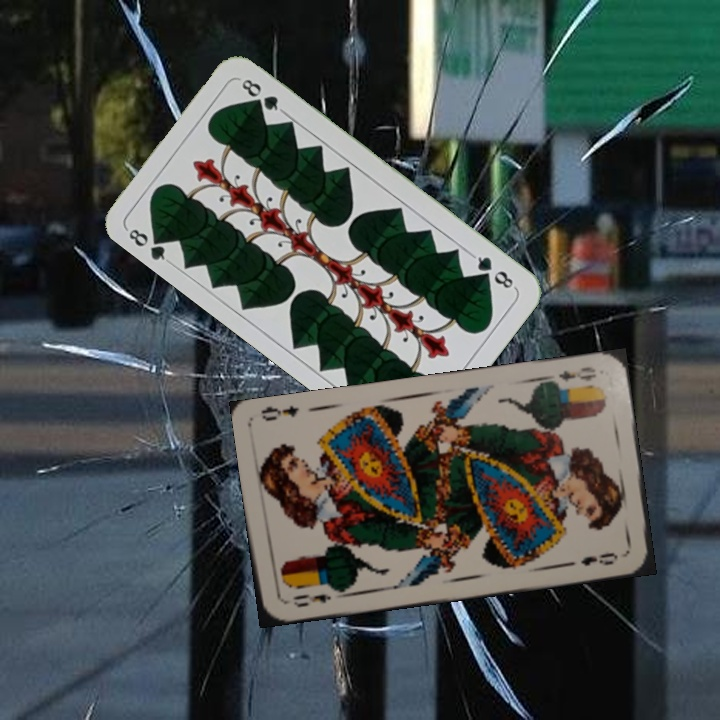EO: (554, 362, 599, 384), (289, 590, 334, 610)
G8: (467, 250, 518, 292), (124, 224, 173, 266)
